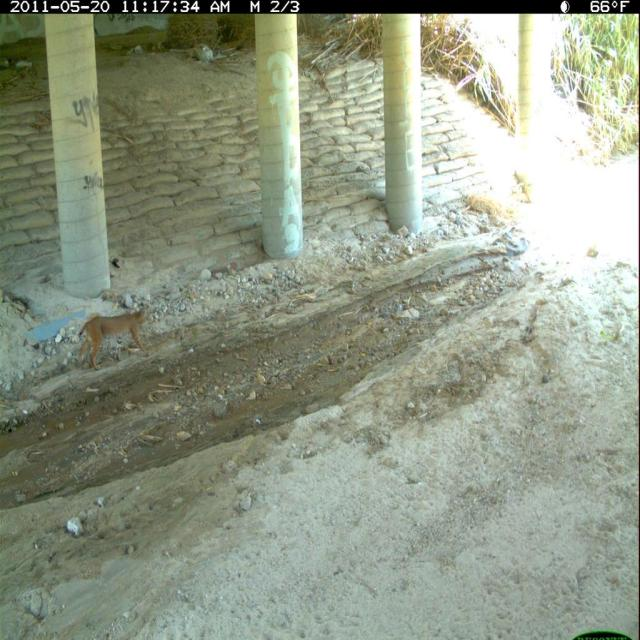bobcat: (78, 305, 152, 374)
